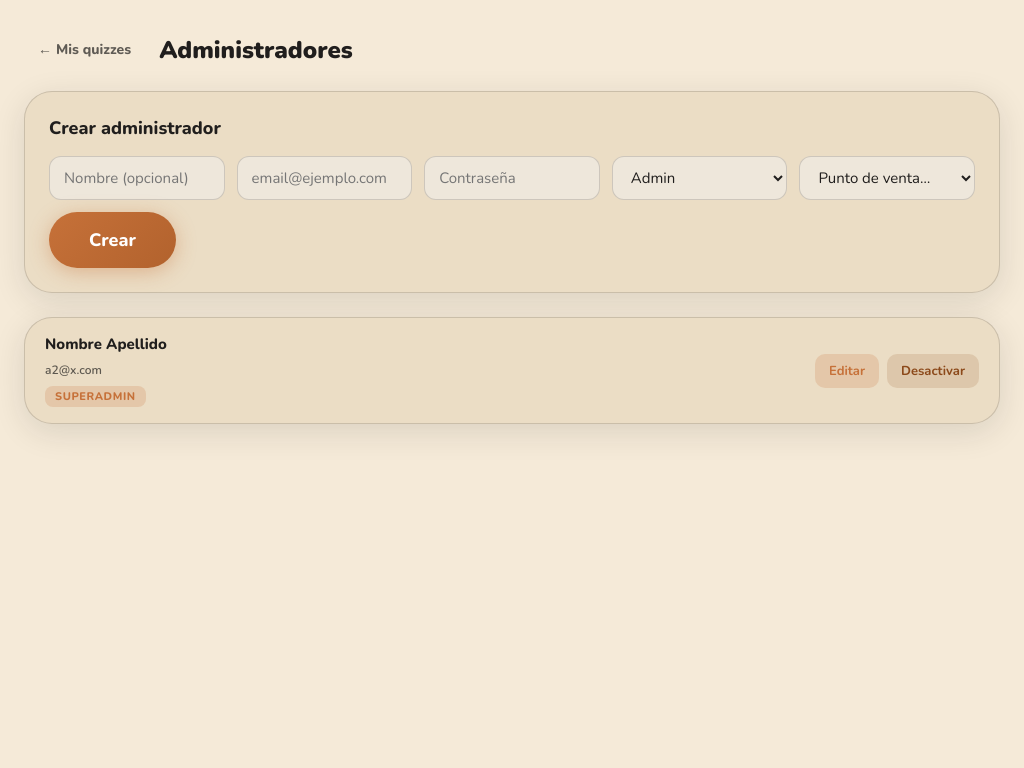
AdminsView — admin list and edit popup › opens the edit popup pre-filled with the admin current name, role and punto_de_venta
Step 1. Click the button with class "btn-edit" → (847, 370), box 815,354 -> 879,388
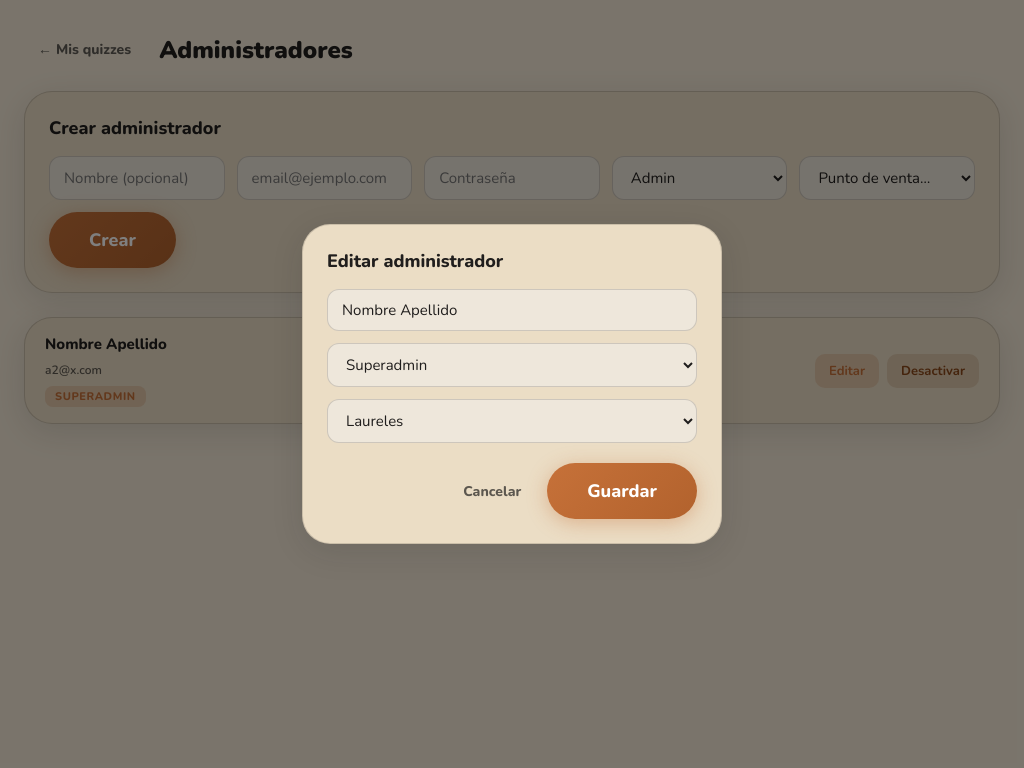
Check: the field with id "edit-name-input" holds "Nombre Apellido", box 327,289 -> 697,331
Check: the dropdown with id "edit-role-select" shows "Superadmin", box 327,343 -> 697,387
Check: the dropdown with id "edit-punto-de-venta-select" shows "Laureles", box 327,399 -> 697,443
